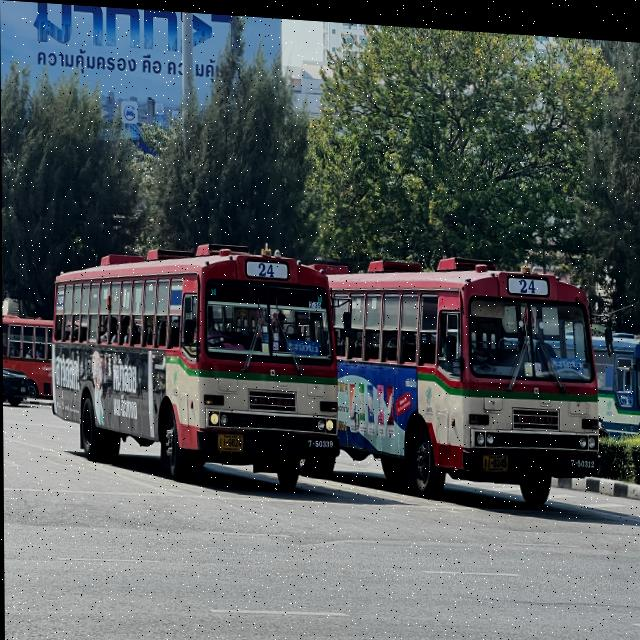BMTA-bus: (46, 220, 341, 514), (304, 230, 603, 506)
Bus Line Number: (507, 266, 549, 290), (244, 255, 289, 277)
Bus Side Number: (569, 448, 597, 463), (304, 434, 334, 445)
Destination Sign: (547, 349, 584, 370), (284, 334, 321, 352)
